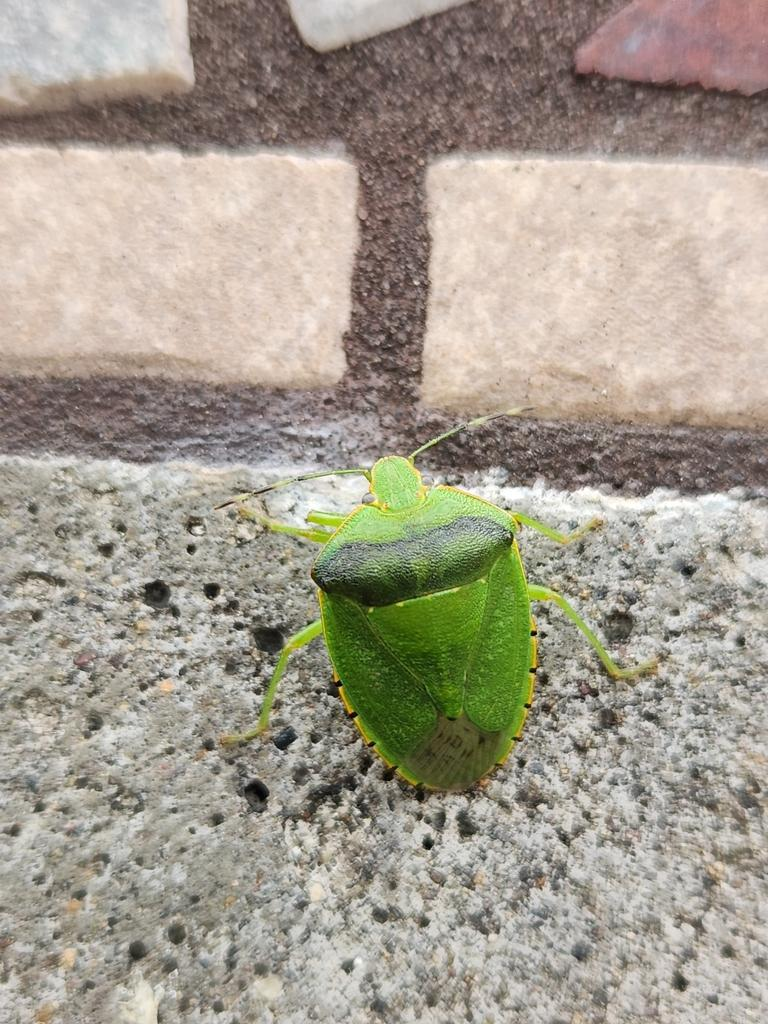stink_bugs: (147, 345, 711, 859)
